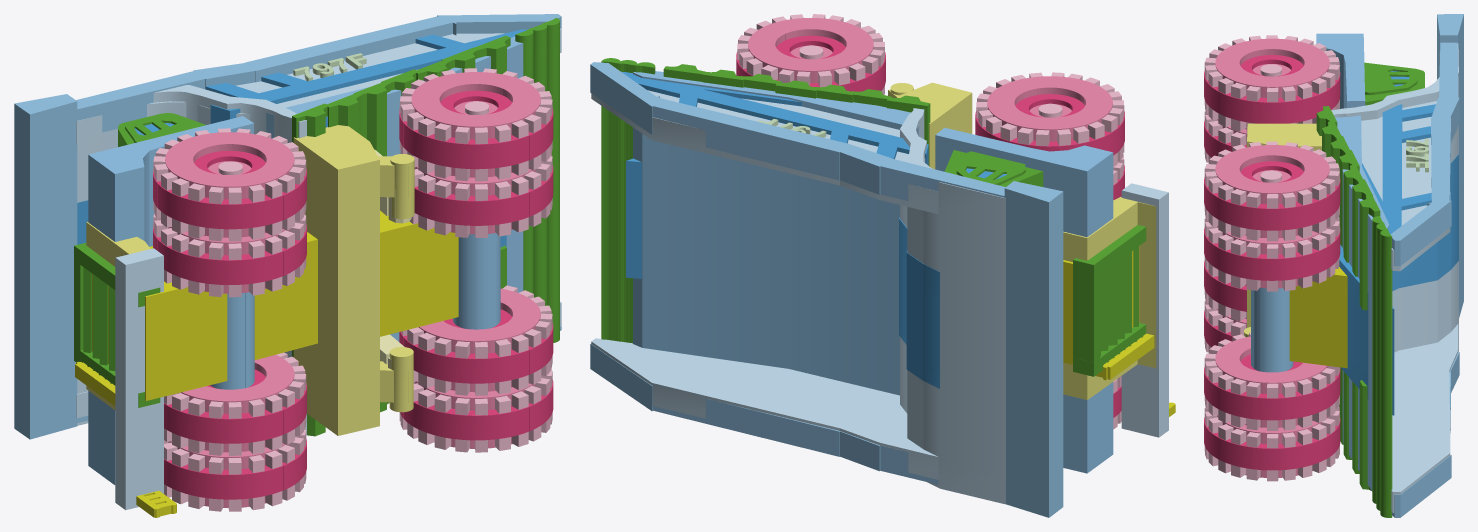
3 renders of one model, left to right at view 1: azimuth 30°, elevation 25°; view 2: azimuth 150°, elevation 25°; view 3: azimuth 270°, elevation 25°, orthographic. The views are drawn at different scales.
Size of the model in its own units: 189 by 114 by 93.38.
